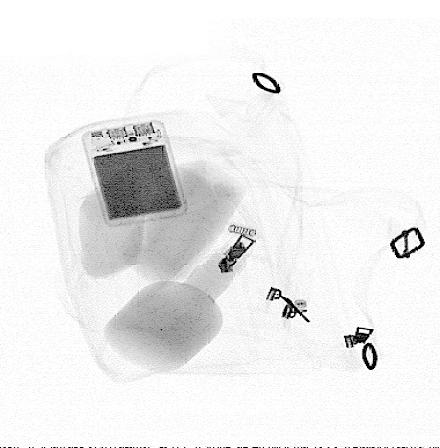Powerbank: (81, 120, 190, 228)
